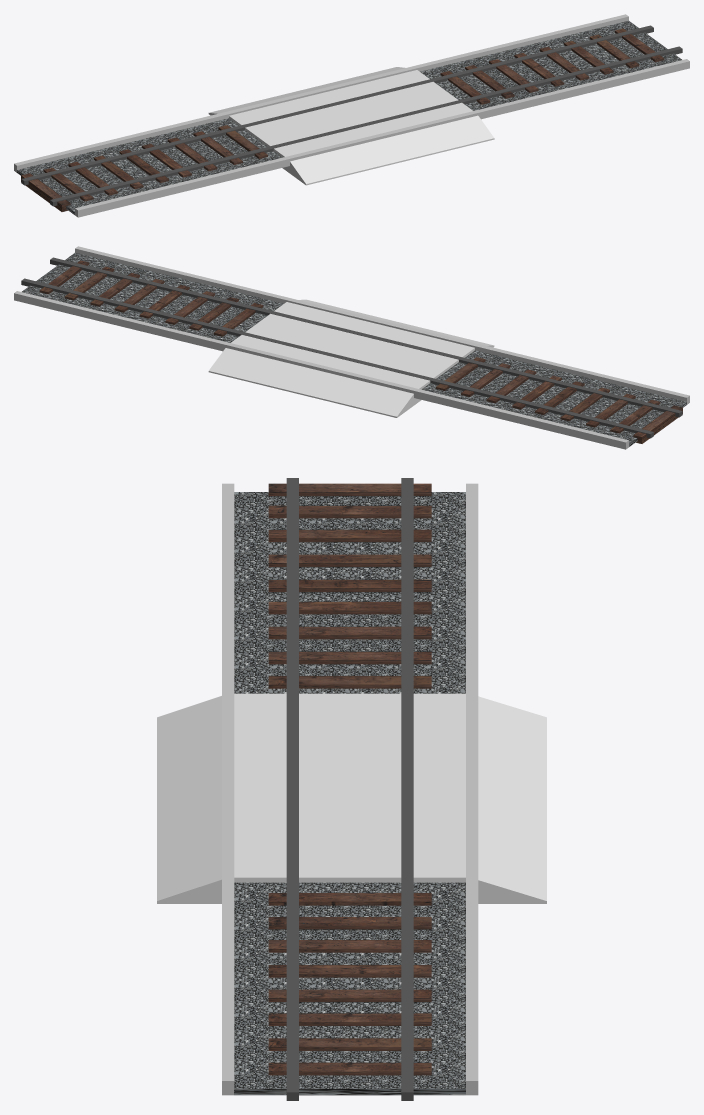
File: spoorrailsovergang.fbx
The picture shows the model from 3 angles, top to bottom: view 1: azimuth 30°, elevation 25°; view 2: azimuth 150°, elevation 25°; view 3: azimuth 270°, elevation 25°; orthographic projection. The views are drawn at different scales.
Visible parts, largest first — view 1: overgang, gravel, sideleft, sideright, traintrachleft, traintrackright, plank.011, plank.023, plank, plank.017, plank.005, plank.001 (+11 smaller); view 2: overgang, gravel, sideright, sideleft, traintrackright, traintrachleft, plank.011, plank.020, plank, plank.007, plank.023, plank.004 (+11 smaller); view 3: overgang, gravel, traintrachleft, traintrackright, sideright, sideleft, plank, plank.001, plank.002, plank.003, plank.004, plank.005 (+11 smaller).
Part boxes in pixels (bbox=[...]): overgang: bbox=[208, 67, 494, 185]; gravel: bbox=[17, 20, 681, 214]; sideleft: bbox=[75, 59, 689, 217]; sideright: bbox=[14, 14, 628, 172]; traintrachleft: bbox=[50, 46, 682, 206]; traintrackright: bbox=[21, 25, 653, 185]; plank.011: bbox=[21, 173, 70, 211]; plank.023: bbox=[589, 34, 639, 68]; plank: bbox=[43, 167, 93, 201]; plank.017: bbox=[440, 71, 490, 104]; plank.005: bbox=[167, 137, 217, 171]; plank.001: bbox=[68, 162, 117, 195]; overgang: bbox=[208, 299, 494, 417]; gravel: bbox=[22, 252, 686, 446]; sideright: bbox=[14, 291, 628, 449]; sideleft: bbox=[75, 246, 689, 404]; traintrackright: bbox=[21, 278, 653, 438]; traintrachleft: bbox=[50, 257, 682, 417]; plank.011: bbox=[633, 405, 682, 443]; plank.020: bbox=[139, 285, 189, 318]; plank: bbox=[610, 399, 660, 433]; plank.007: bbox=[436, 357, 485, 390]; plank.023: bbox=[64, 266, 114, 300]; plank.004: bbox=[512, 376, 561, 409]; overgang: bbox=[157, 693, 546, 903]; gravel: bbox=[234, 492, 465, 1095]; traintrachleft: bbox=[286, 478, 298, 1100]; traintrackright: bbox=[401, 478, 413, 1100]; sideright: bbox=[466, 483, 478, 1095]; sideleft: bbox=[222, 483, 234, 1095]; plank: bbox=[268, 505, 431, 518]; plank.001: bbox=[268, 529, 431, 542]; plank.002: bbox=[268, 554, 431, 567]; plank.003: bbox=[268, 579, 431, 592]; plank.004: bbox=[268, 601, 431, 614]; plank.005: bbox=[268, 626, 431, 639].
Bounding box in the file's own units: 2544 × 57.13 × 682.
